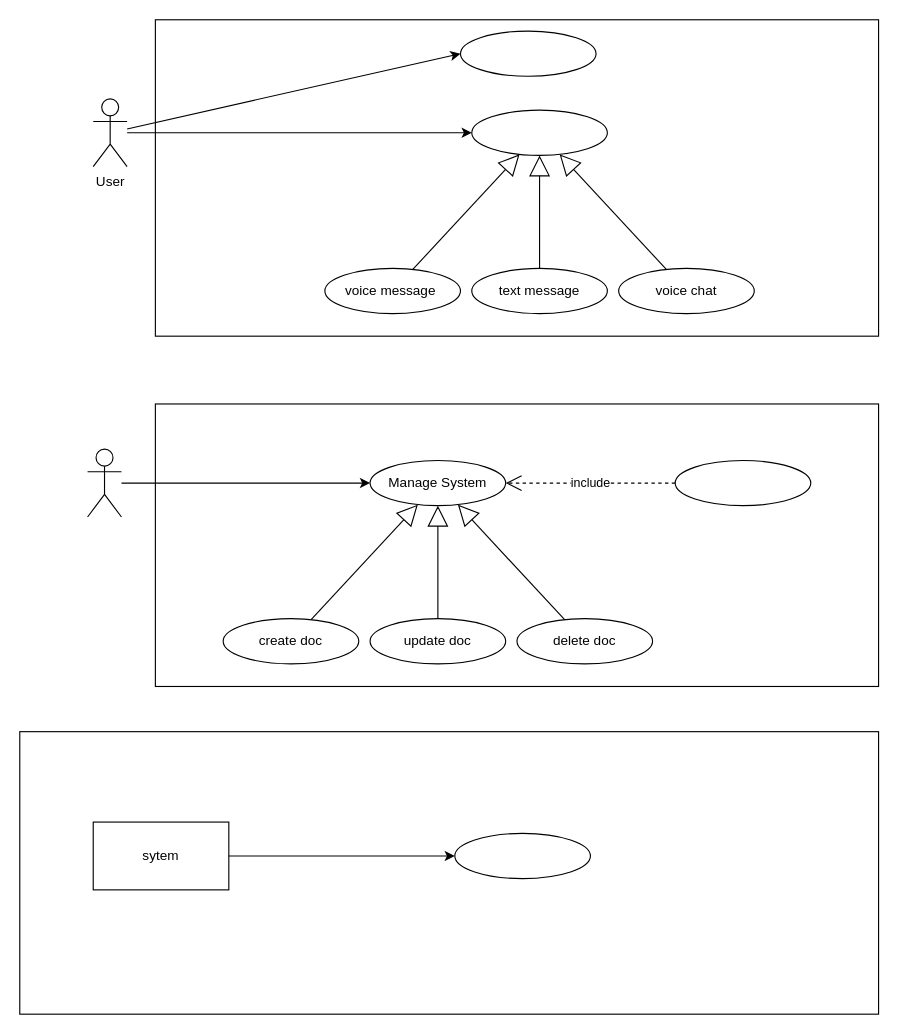
Some shapes in this 898 by 1034 pixel diagram are drawn without their labels. Each missing label, with the centre of its shape:
Admin: the point at 103,482
answer question: the point at 522,855
ask question: the point at 539,132
login: the point at 742,482
send feedback: the point at 527,53
